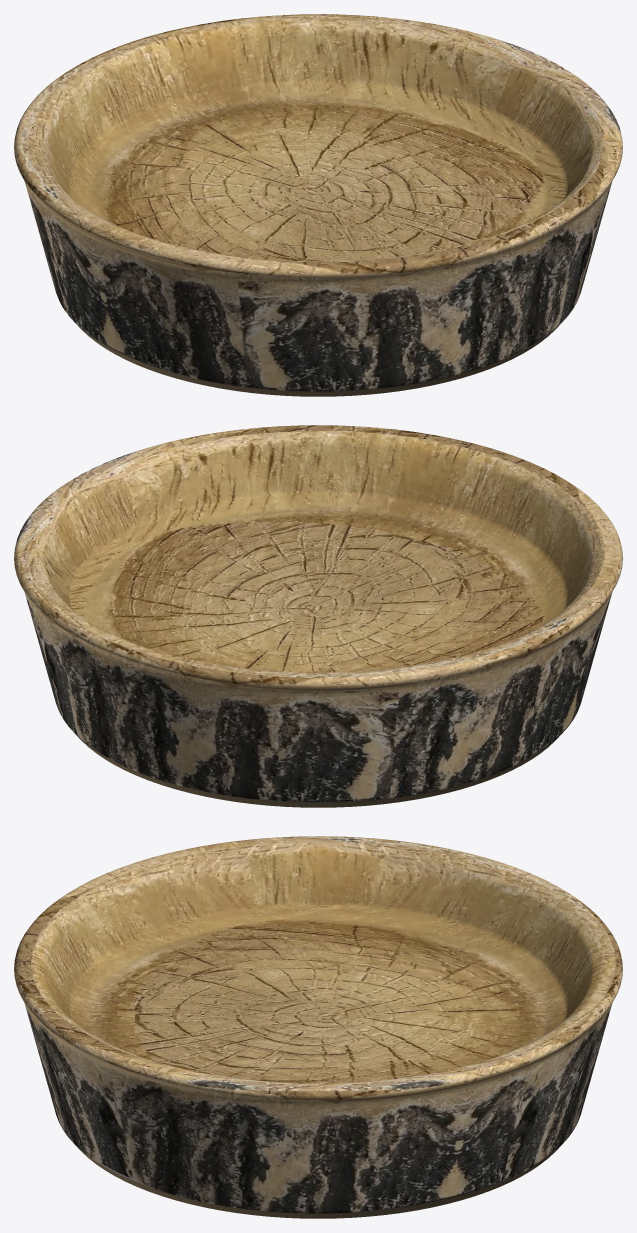
File: posuda-godovi-drveta.glb
The picture shows the model from 3 angles, top to bottom: view 1: azimuth 30°, elevation 25°; view 2: azimuth 150°, elevation 25°; view 3: azimuth 270°, elevation 25°; orthographic projection.
Bounding box in the file's own units: 0.1497 × 0.04 × 0.1497.
1 material, 1 textured.
